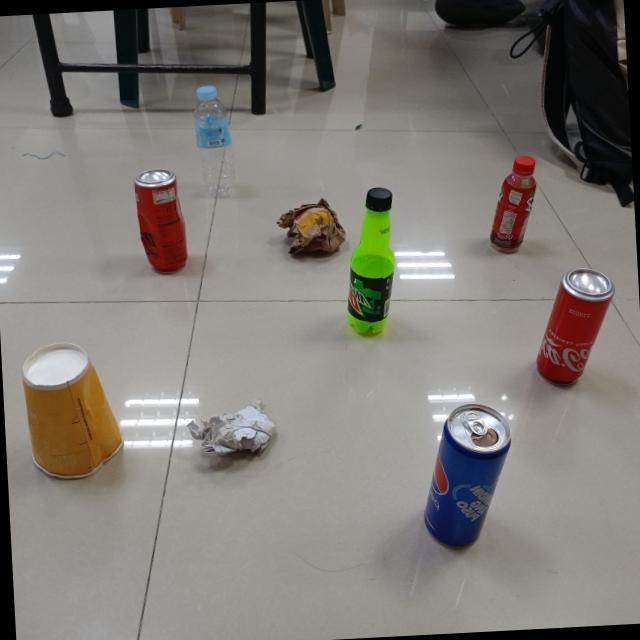recyclable waste: (15, 334, 134, 487), (412, 394, 524, 556), (526, 260, 626, 394), (337, 180, 406, 340), (180, 391, 281, 468), (130, 164, 193, 278), (482, 148, 545, 258), (190, 80, 242, 204), (273, 192, 351, 264)
